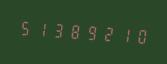eight: (65, 18, 80, 43)
five: (17, 15, 32, 40)
nine: (81, 19, 96, 44)
one: (33, 16, 48, 41), (113, 22, 128, 47)
three: (49, 17, 64, 42)
two: (97, 21, 112, 45)
zero: (129, 23, 144, 48)
